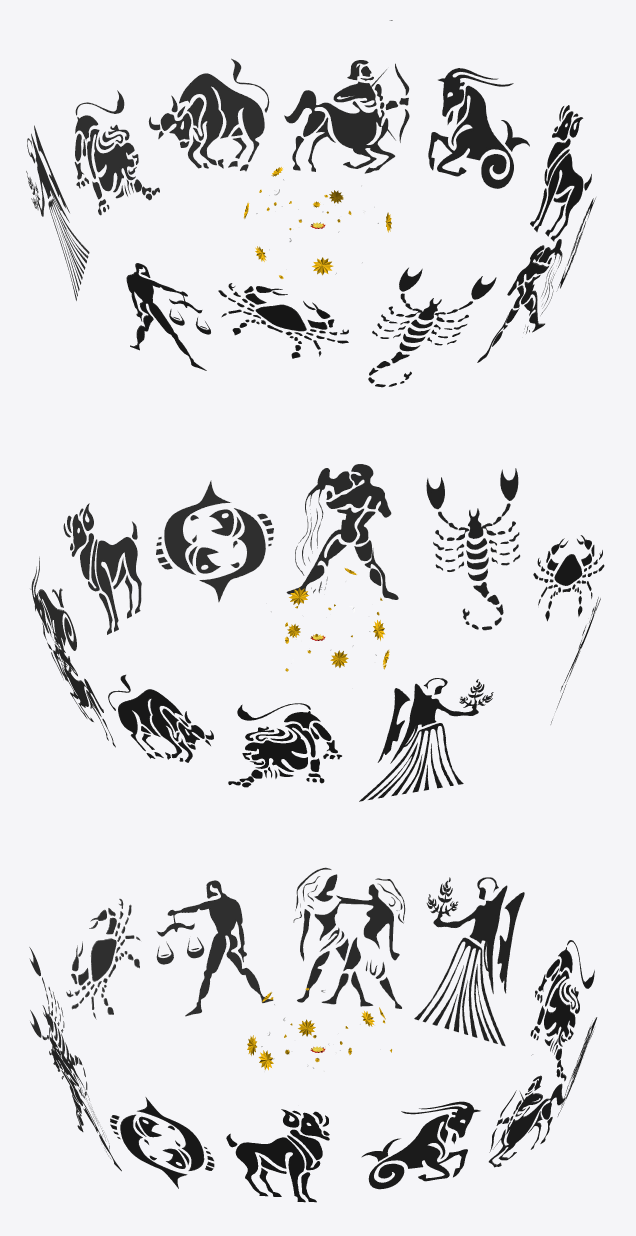
The model's file is Stage0.3.2.fbx.
3 views of the same model, one above another, from view 1: azimuth 30°, elevation 25°; view 2: azimuth 150°, elevation 25°; view 3: azimuth 270°, elevation 25° (orthographic).
Visible parts, largest first — view 1: Group40, Group41, Group39, Group42, Group38, Group35, Group46, Group45, Group43, Group36; view 2: Group36, Group37, Group43, Group38, Group42, Group35, Group41, Group46, Group39, Group40; view 3: Group43, Group44, Group38, Group39, Group45, Group37, Group42, Group46, Group40, Group36, Group35.
Part boxes in pixels (bbox=[...]): Group40: bbox=[284, 20, 409, 173]; Group41: bbox=[148, 58, 269, 171]; Group39: bbox=[428, 68, 529, 188]; Group42: bbox=[74, 90, 159, 215]; Group38: bbox=[530, 105, 591, 241]; Group35: bbox=[368, 267, 496, 387]; Group46: bbox=[218, 283, 348, 358]; Group45: bbox=[126, 263, 210, 370]; Group43: bbox=[26, 125, 89, 300]; Group36: bbox=[477, 239, 562, 362]; Group36: bbox=[286, 464, 398, 599]; Group37: bbox=[156, 480, 273, 602]; Group43: bbox=[359, 678, 493, 801]; Group38: bbox=[63, 503, 141, 634]; Group42: bbox=[228, 703, 341, 787]; Group35: bbox=[426, 468, 520, 630]; Group41: bbox=[108, 674, 213, 762]; Group46: bbox=[533, 535, 604, 621]; Group39: bbox=[31, 556, 76, 681]; Group40: bbox=[30, 589, 115, 747]; Group43: bbox=[414, 877, 524, 1046]; Group44: bbox=[293, 867, 405, 1008]; Group38: bbox=[226, 1109, 329, 1202]; Group39: bbox=[361, 1101, 480, 1189]; Group45: bbox=[156, 880, 273, 1016]; Group37: bbox=[110, 1097, 214, 1188]; Group42: bbox=[530, 940, 594, 1081]; Group46: bbox=[66, 898, 140, 1019]; Group40: bbox=[488, 1054, 565, 1167]; Group36: bbox=[49, 1037, 121, 1171]; Group35: bbox=[29, 947, 87, 1098].
Size of what is drawn, in the model's own units: 6952 by 1946 by 6952.
